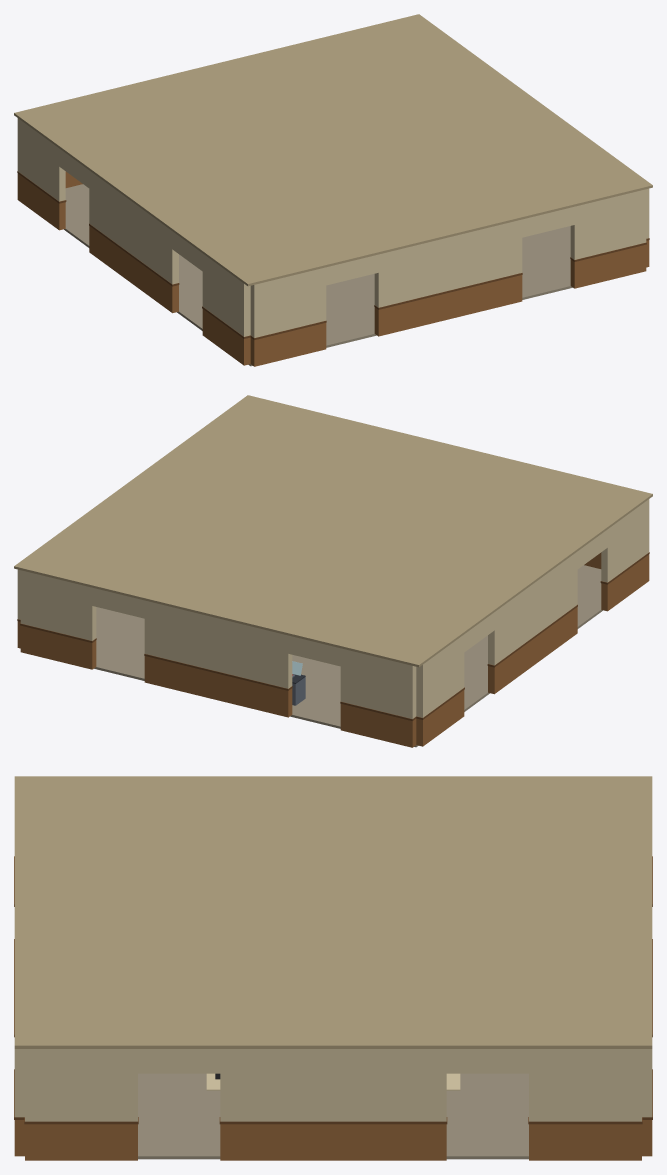
The model's file is room_shared_cafeteria.glb.
The picture shows the model from 3 angles, top to bottom: view 1: azimuth 30°, elevation 25°; view 2: azimuth 150°, elevation 25°; view 3: azimuth 270°, elevation 25°; orthographic projection. The views are drawn at different scales.
Parts seen in each view (by area): view 1: room_shared_cafeteria; view 2: room_shared_cafeteria; view 3: room_shared_cafeteria.
Part boxes in pixels (x1=…): room_shared_cafeteria: x1=14, y1=14, x2=652, y2=366; room_shared_cafeteria: x1=14, y1=395, x2=652, y2=747; room_shared_cafeteria: x1=14, y1=776, x2=652, y2=1160.
Bounding box in the file's own units: 18.62 × 3.8 × 18.64.
1 material, 1 textured.
